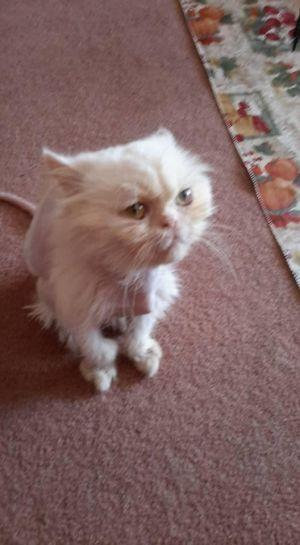persian: (37, 120, 238, 288)
